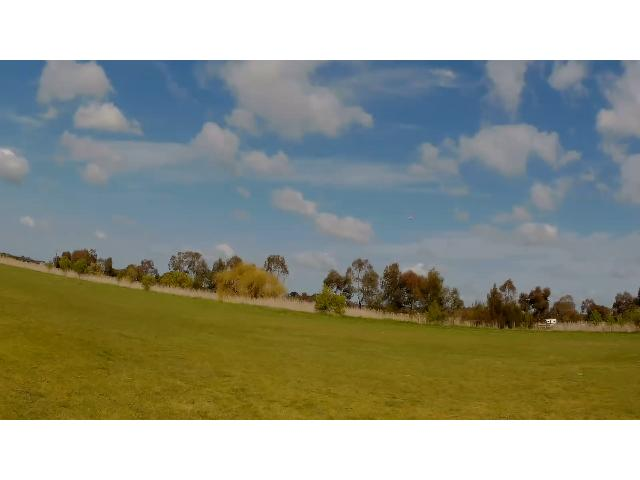Anti-Drone: (393, 206, 431, 232)
